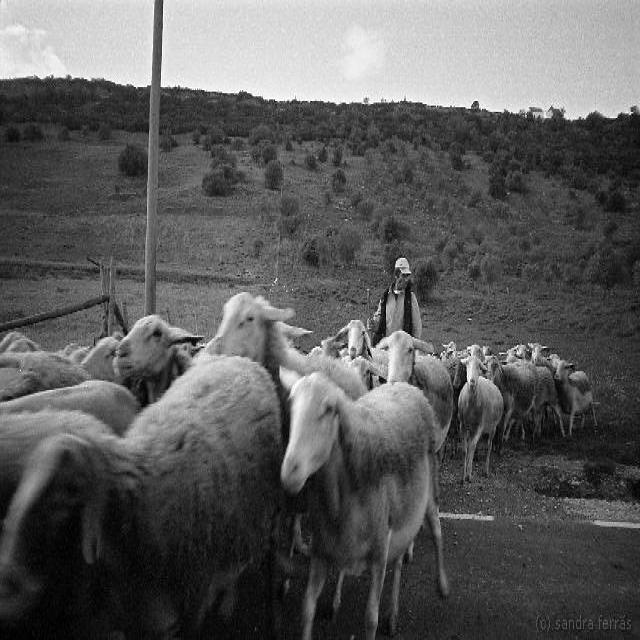Sheep: (0, 318, 565, 468), (2, 354, 283, 632), (276, 367, 451, 628), (200, 291, 368, 454), (376, 331, 454, 469), (117, 313, 205, 392), (458, 356, 504, 486), (482, 354, 540, 441), (555, 360, 598, 438), (334, 320, 389, 374)
